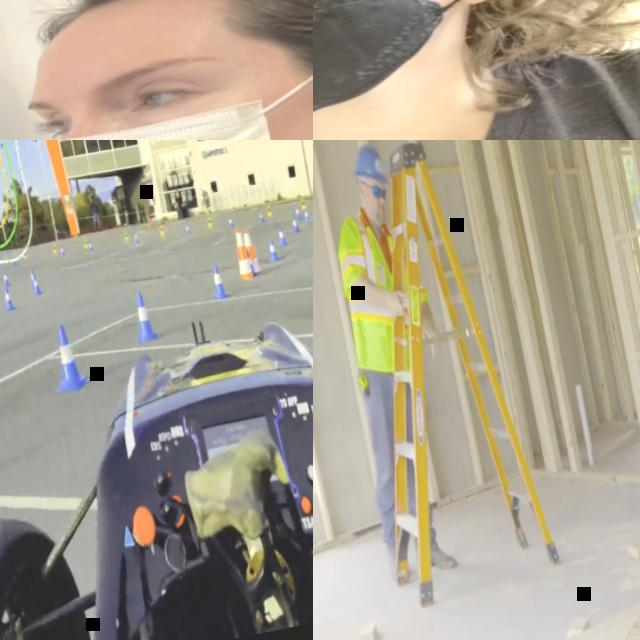Hardhat: (349, 141, 388, 188)
Mask: (313, 0, 501, 140), (29, 49, 313, 140)
NO-Hardhat: (11, 0, 313, 74)
NO-Mask: (363, 194, 387, 226)
NO-Safety Vest: (313, 21, 640, 140)
Person: (313, 141, 466, 587), (313, 0, 640, 140), (0, 0, 313, 140)
Safety Cone: (43, 321, 88, 394), (126, 289, 158, 345), (231, 230, 254, 283), (241, 229, 262, 280), (206, 261, 229, 303), (242, 246, 259, 280), (265, 236, 279, 264), (1, 285, 16, 311), (274, 224, 287, 248), (31, 275, 43, 298), (27, 267, 38, 289), (289, 214, 300, 235), (1, 269, 12, 290), (293, 206, 302, 221), (303, 208, 311, 224), (184, 223, 192, 237), (299, 197, 307, 210), (258, 212, 265, 226), (132, 233, 139, 246), (266, 205, 273, 218), (206, 216, 213, 229), (158, 225, 165, 237), (122, 232, 129, 244), (51, 244, 57, 256), (87, 241, 93, 252), (228, 218, 234, 229), (82, 239, 88, 250), (60, 246, 65, 256)
Safety Vest: (329, 200, 433, 335)
vehicle: (0, 267, 313, 640)
